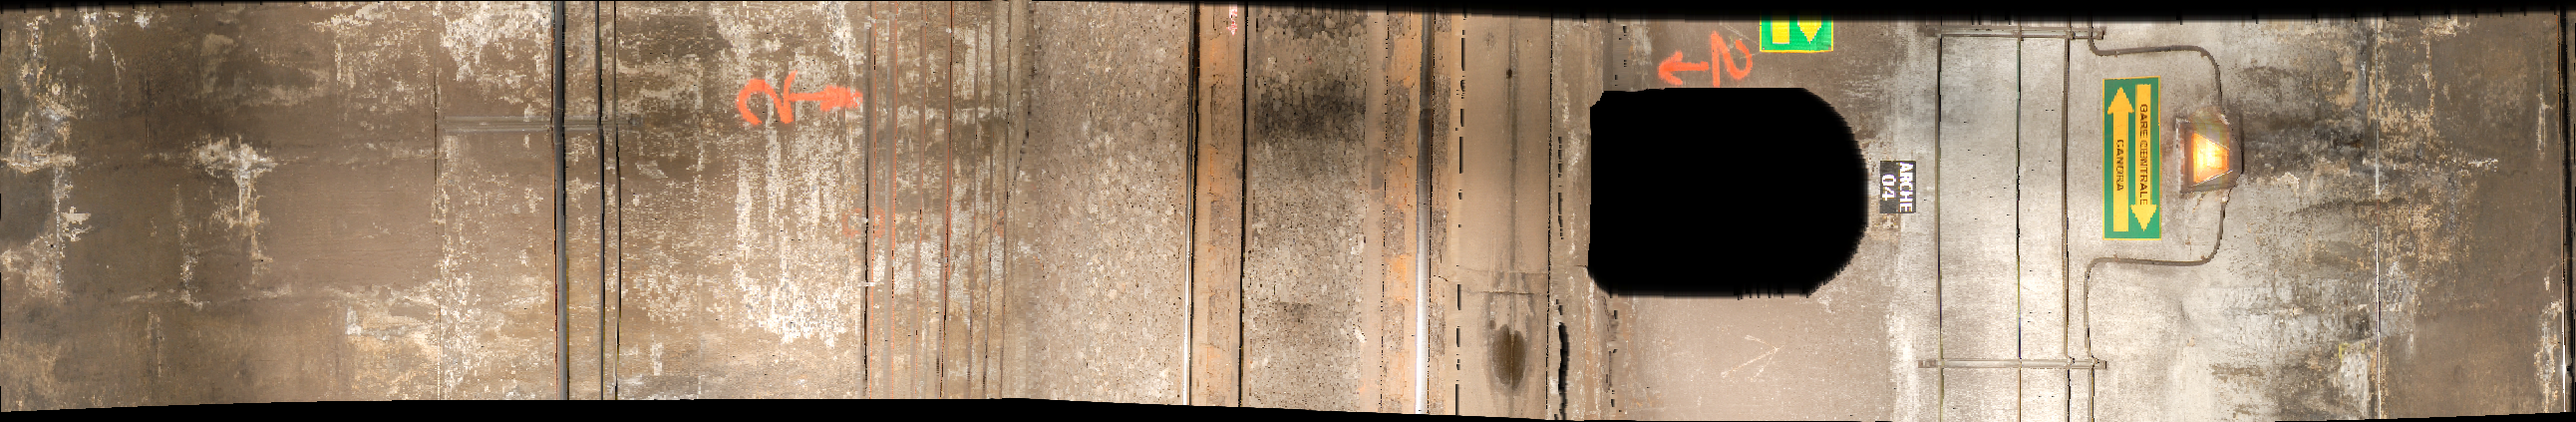light: (2178, 115, 2239, 194)
pipes: (853, 5, 1037, 422), (544, 2, 631, 422)
sign: (2106, 80, 2159, 250), (1761, 20, 1835, 57), (1884, 156, 1920, 217)
tracks: (1180, 2, 1457, 422)
